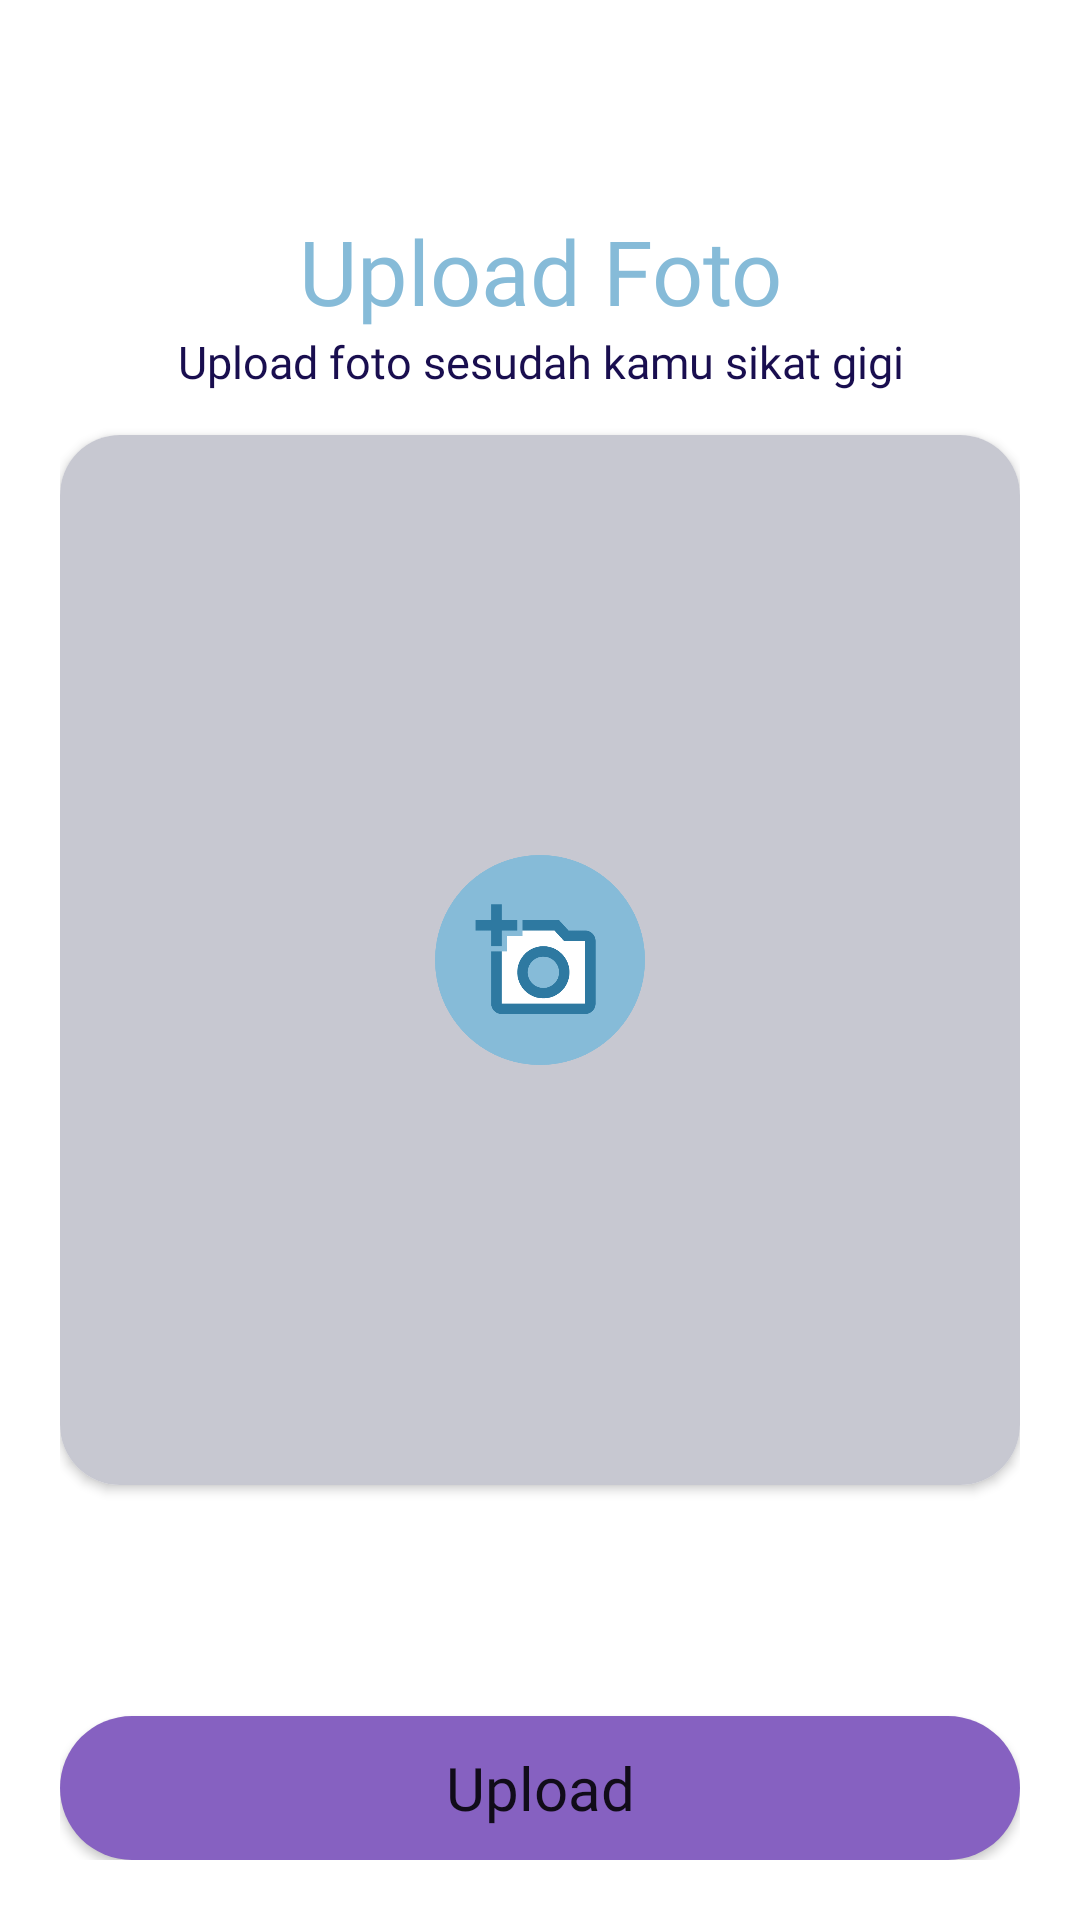

Screen size 1080 x 1920. Icon name, then its center in pixels as (x,y):
photo upload: (540,960)
